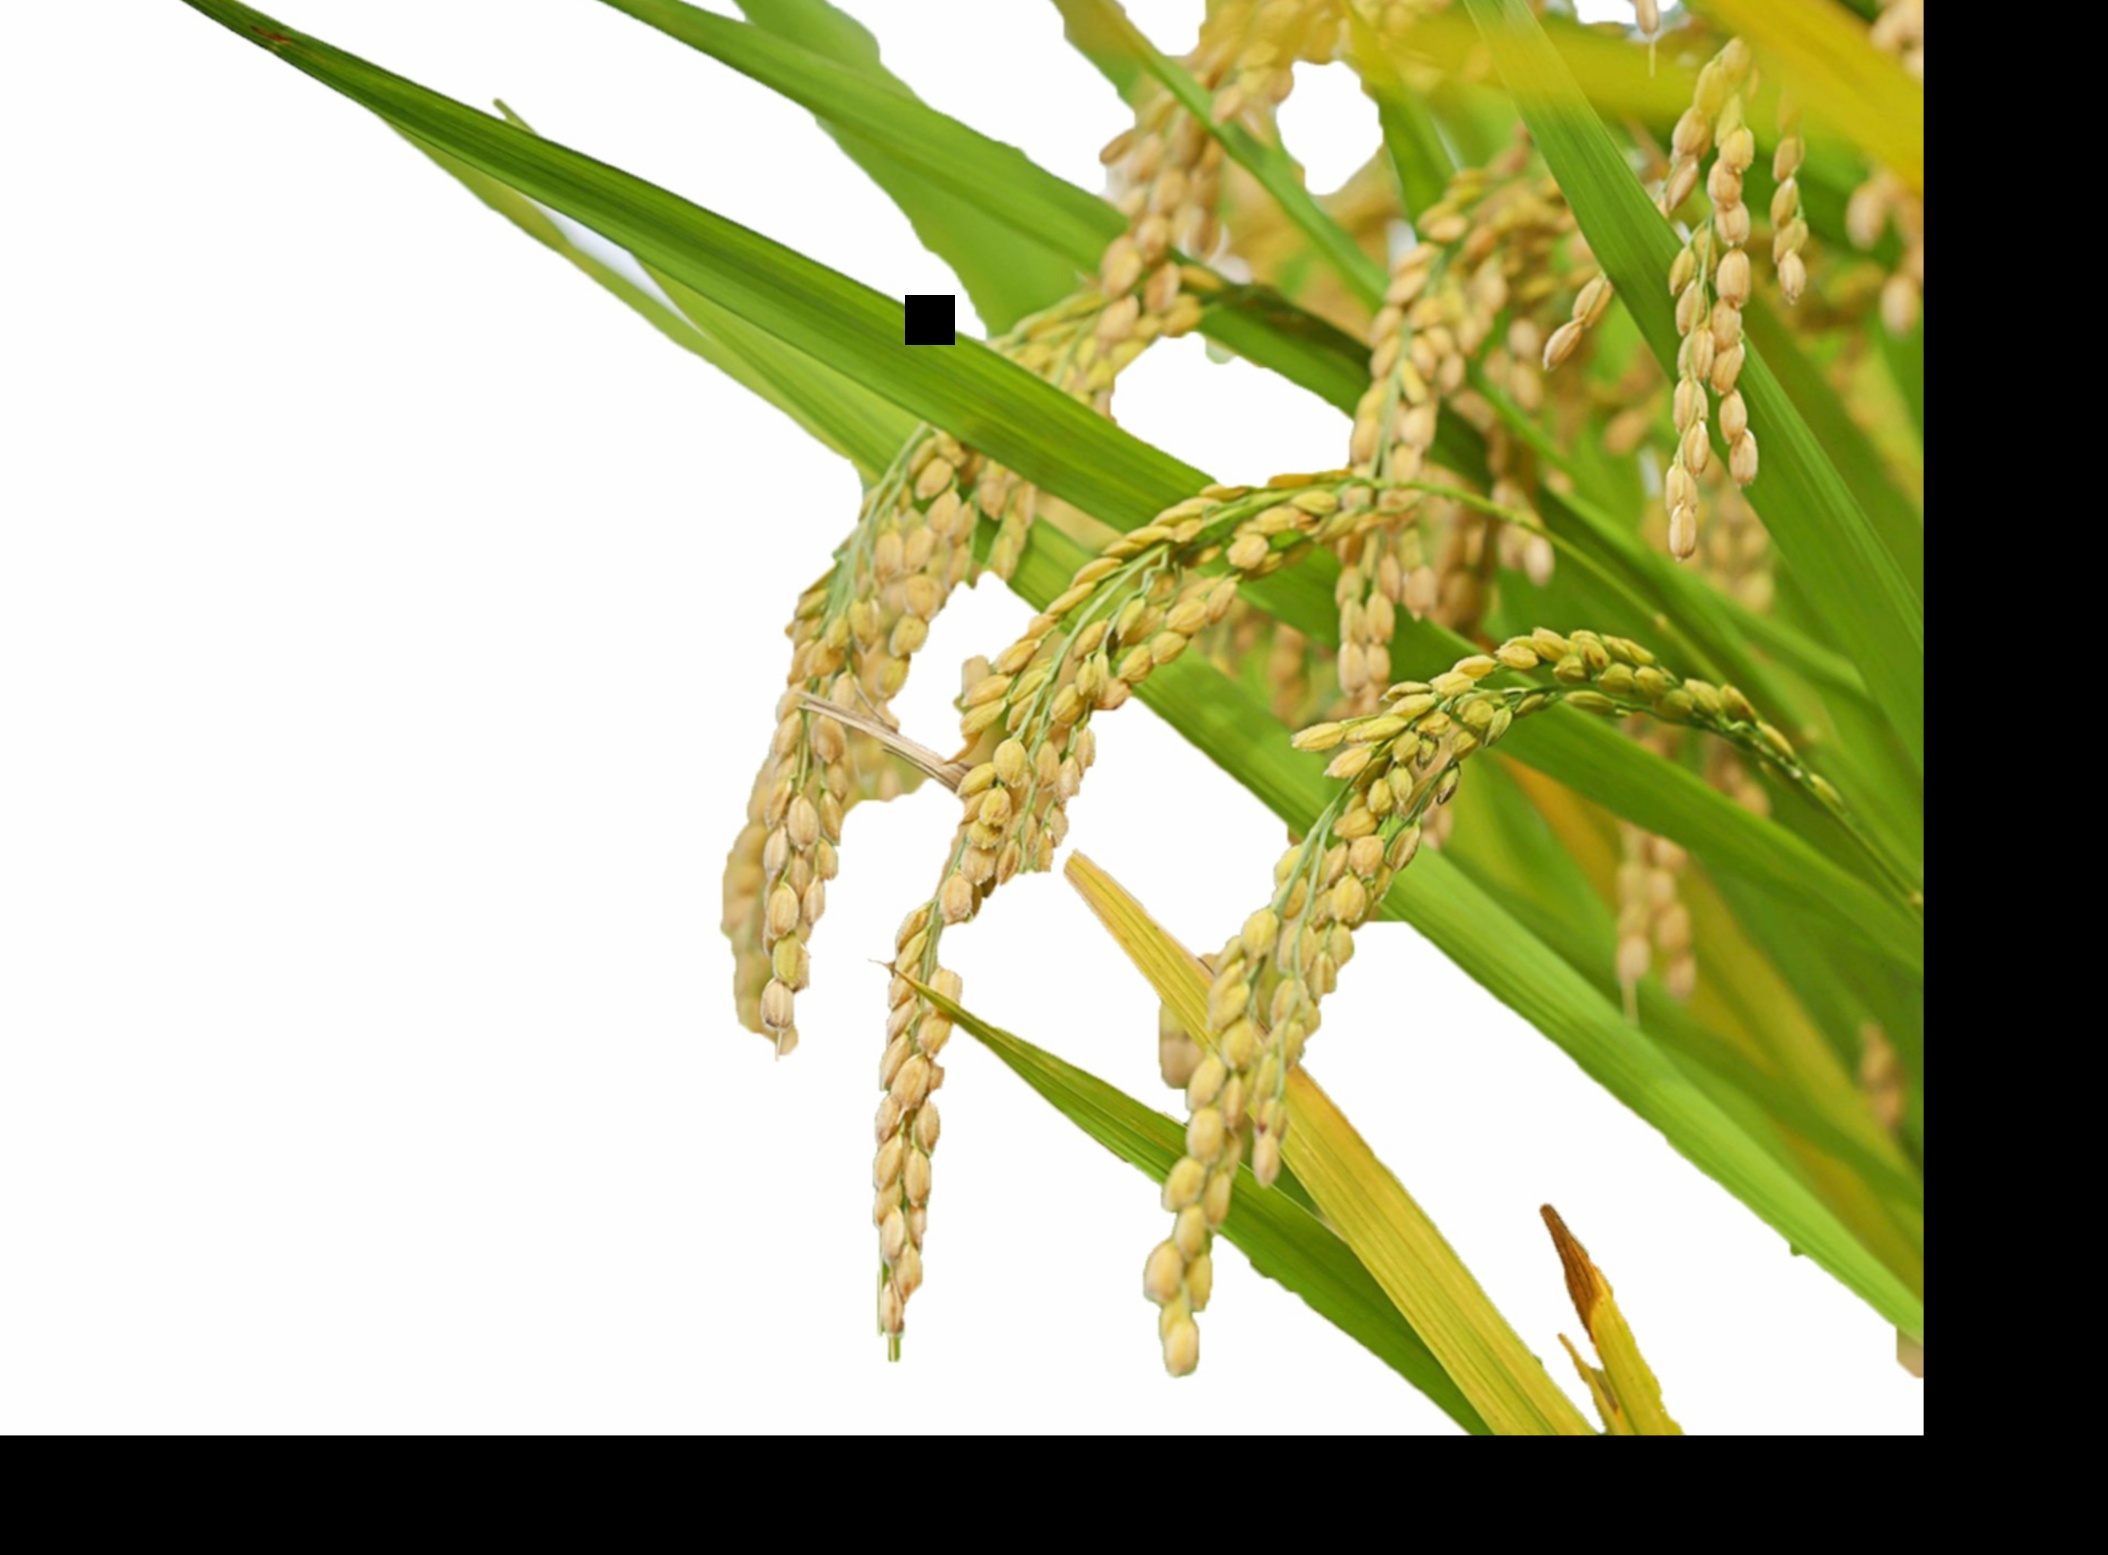rice: (892, 434, 1592, 1349), (1159, 624, 1745, 1401), (712, 257, 1144, 1038)
